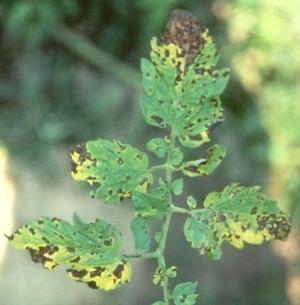Tomato Septoria leaf spot: (130, 10, 231, 145), (1, 215, 138, 292), (178, 179, 298, 265), (56, 139, 163, 202), (180, 143, 231, 184)
